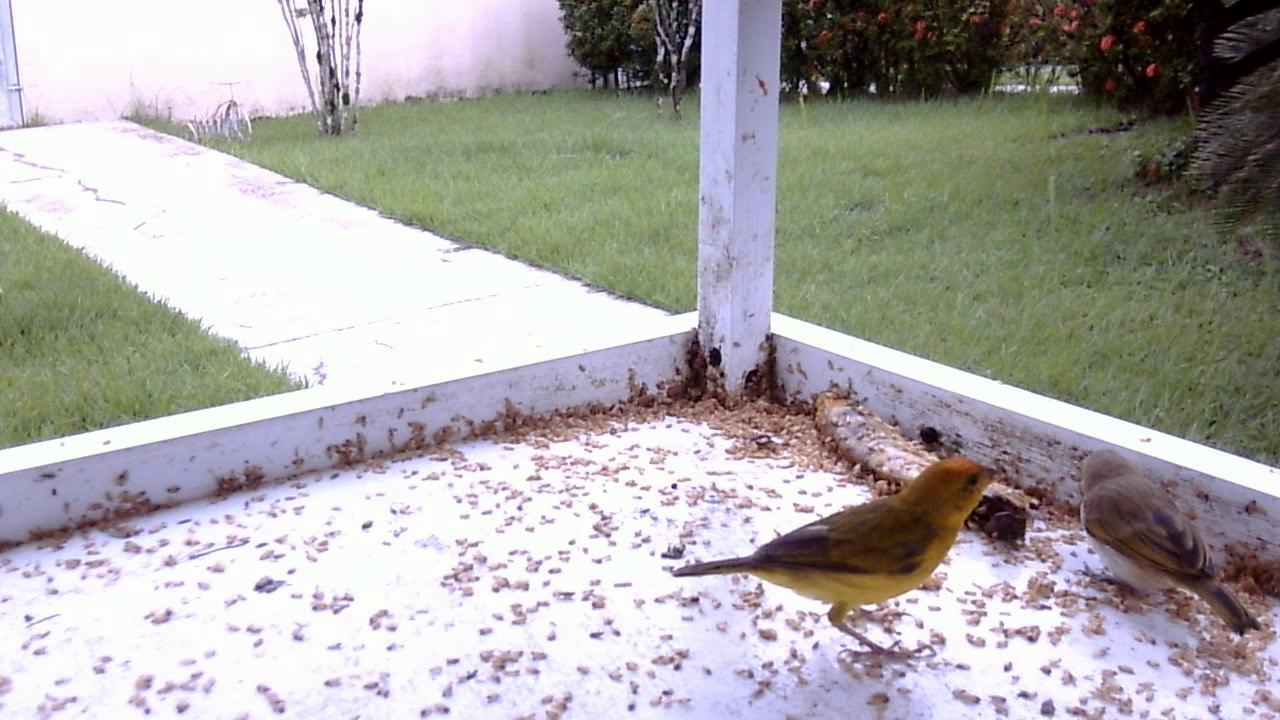canario_do_amazonas: (662, 442, 999, 669), (1065, 441, 1262, 642)
